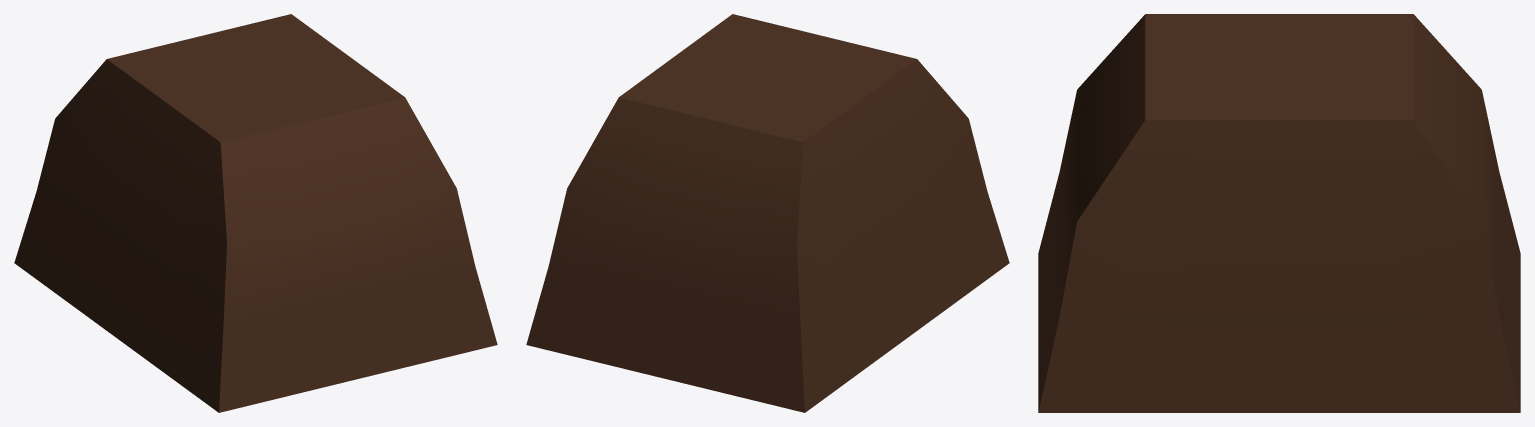
Rendered from Schokolade 2.fbx.
3 views of the same model, side by side, from view 1: azimuth 30°, elevation 25°; view 2: azimuth 150°, elevation 25°; view 3: azimuth 270°, elevation 25° (orthographic). The views are drawn at different scales.
Visible parts, largest first — view 1: Schokolade 2; view 2: Schokolade 2; view 3: Schokolade 2.
Boxes of the visible parts, x1,y1,x2,y2 form: Schokolade 2: (14,14,497,412); Schokolade 2: (526,14,1009,412); Schokolade 2: (1038,14,1520,412).
Size of the model in its own units: 80.05 by 61.98 by 102.
